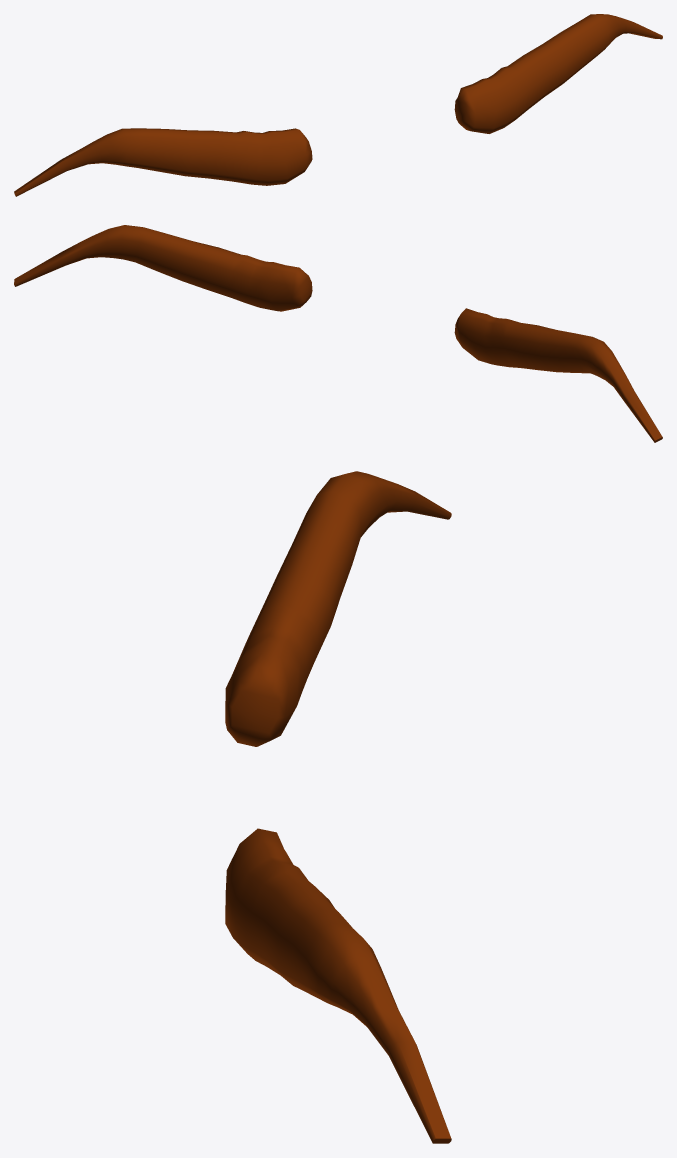
The model's file is Eyebrows_08_02.fbx.
3 renders of one model, top to bottom at view 1: azimuth 30°, elevation 25°; view 2: azimuth 150°, elevation 25°; view 3: azimuth 270°, elevation 25°, orthographic. The views are drawn at different scales.
Parts seen in each view (by area): view 1: Eyebrows_08_02; view 2: Eyebrows_08_02; view 3: Eyebrows_08_02.
Part boxes in pixels (bbox=[...]): Eyebrows_08_02: bbox=[14, 14, 662, 196]; Eyebrows_08_02: bbox=[14, 225, 662, 442]; Eyebrows_08_02: bbox=[225, 471, 451, 1143].
Bounding box in the file's own units: 19.15 × 1.96 × 2.9.
